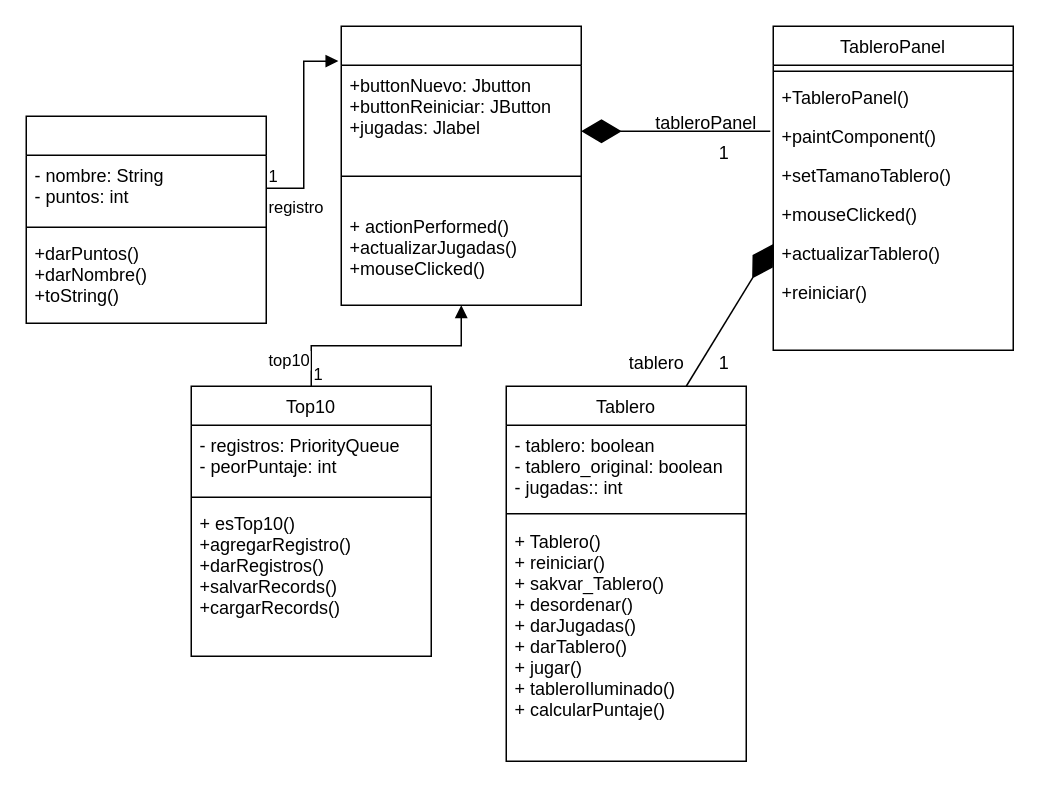
Some shapes in this 1040 by 792 pixel diagram are drawn without their labels. Here are the shapes that lost their labels. From the top down, the box of each, then its label:
(340, 25, 581, 305): Presentacion
(25, 115, 266, 323): RegistroTop10
